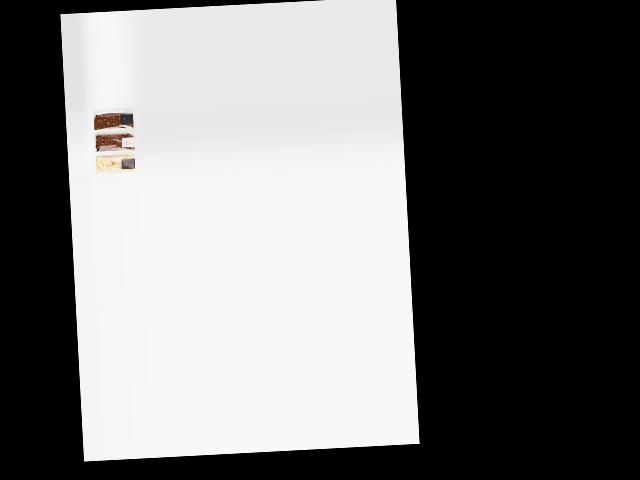chocolate: (91, 108, 133, 129)
